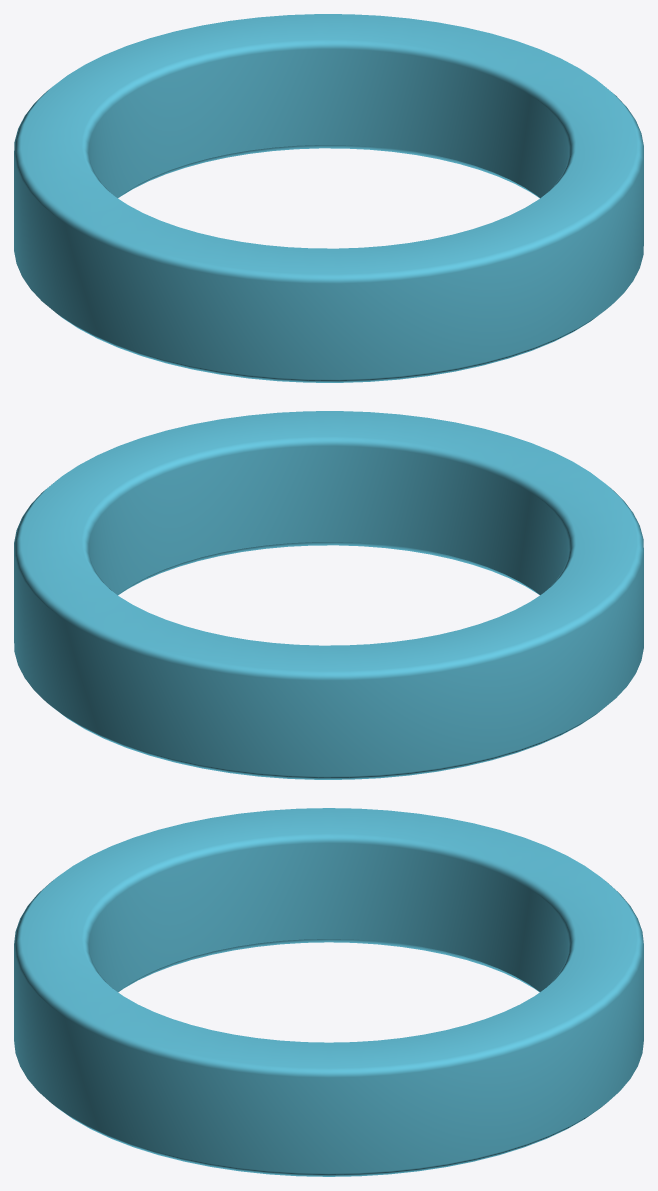
3 renders of one model, top to bottom at view 1: azimuth 30°, elevation 25°; view 2: azimuth 150°, elevation 25°; view 3: azimuth 270°, elevation 25°, orthographic.
Visible parts, largest first — view 1: seal_body; view 2: seal_body; view 3: seal_body.
Boxes of the visible parts, x1,y1,x2,y2 form: seal_body: (14, 14, 643, 382); seal_body: (14, 411, 643, 779); seal_body: (14, 808, 643, 1176).
Size of the model in its own units: 0.0667 by 0.0127 by 0.0667.
